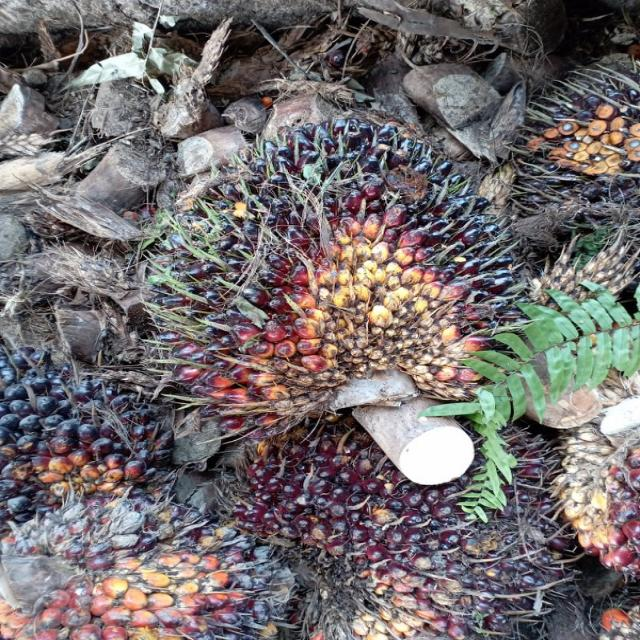fraksi 00: (171, 108, 536, 417), (0, 332, 157, 512)
fraksi 1: (254, 397, 561, 640)
fraksi 3: (3, 498, 282, 640)
